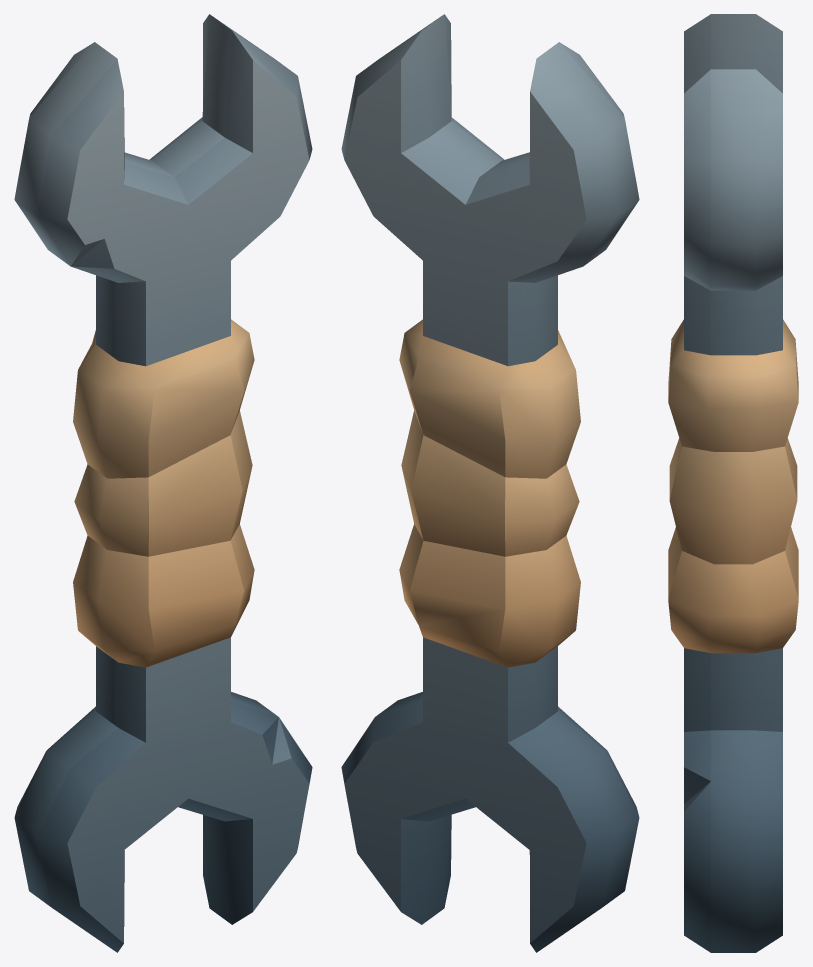
File: prop-wrench.glb
3 renders of one model, left to right at view 1: azimuth 30°, elevation 25°; view 2: azimuth 150°, elevation 25°; view 3: azimuth 270°, elevation 25°, orthographic.
Visible parts, largest first — view 1: wrench_A; view 2: wrench_A; view 3: wrench_A.
Part boxes in pixels (<box>): wrench_A: <box>14,14,312,952</box>; wrench_A: <box>341,14,639,952</box>; wrench_A: <box>668,14,798,952</box>.
Bounding box in the file's own units: 0.2639 × 0.819 × 0.1097.
Materials: 1 (1 with a texture image).
